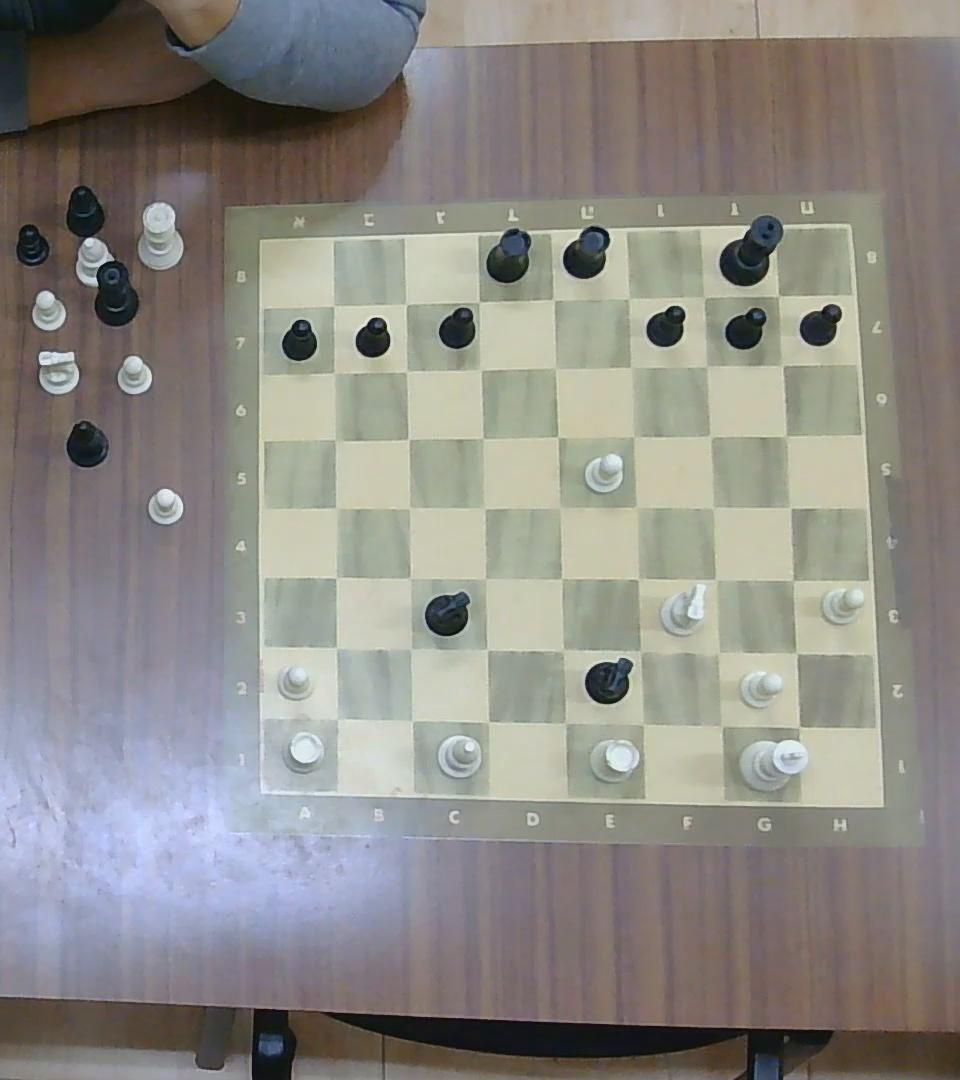xcorner: (624, 705, 659, 739), (781, 708, 815, 742), (703, 707, 738, 740), (701, 636, 735, 669), (548, 705, 580, 739), (470, 633, 502, 665), (624, 635, 656, 667), (780, 637, 812, 669), (547, 633, 578, 665), (396, 703, 428, 734), (471, 704, 502, 736), (320, 701, 351, 733), (470, 563, 501, 594), (622, 563, 652, 594), (700, 563, 730, 594), (547, 563, 577, 594), (698, 491, 728, 521), (394, 633, 424, 662), (320, 562, 350, 591), (320, 633, 350, 662), (776, 566, 807, 594), (545, 493, 574, 522), (622, 491, 651, 520), (395, 562, 424, 591), (776, 491, 805, 520), (470, 492, 499, 520), (467, 422, 495, 451), (539, 284, 567, 313), (616, 352, 645, 380), (543, 421, 571, 449), (393, 425, 422, 452), (619, 421, 648, 448), (692, 352, 721, 379), (395, 494, 423, 521), (322, 494, 350, 521), (615, 285, 643, 311), (696, 422, 723, 448), (542, 353, 569, 379), (322, 426, 348, 451), (467, 355, 492, 380), (393, 357, 419, 381), (393, 291, 418, 315), (773, 423, 798, 447), (466, 288, 491, 312), (323, 359, 348, 383), (767, 283, 791, 307), (691, 285, 716, 308), (770, 352, 793, 376), (323, 294, 345, 316)
